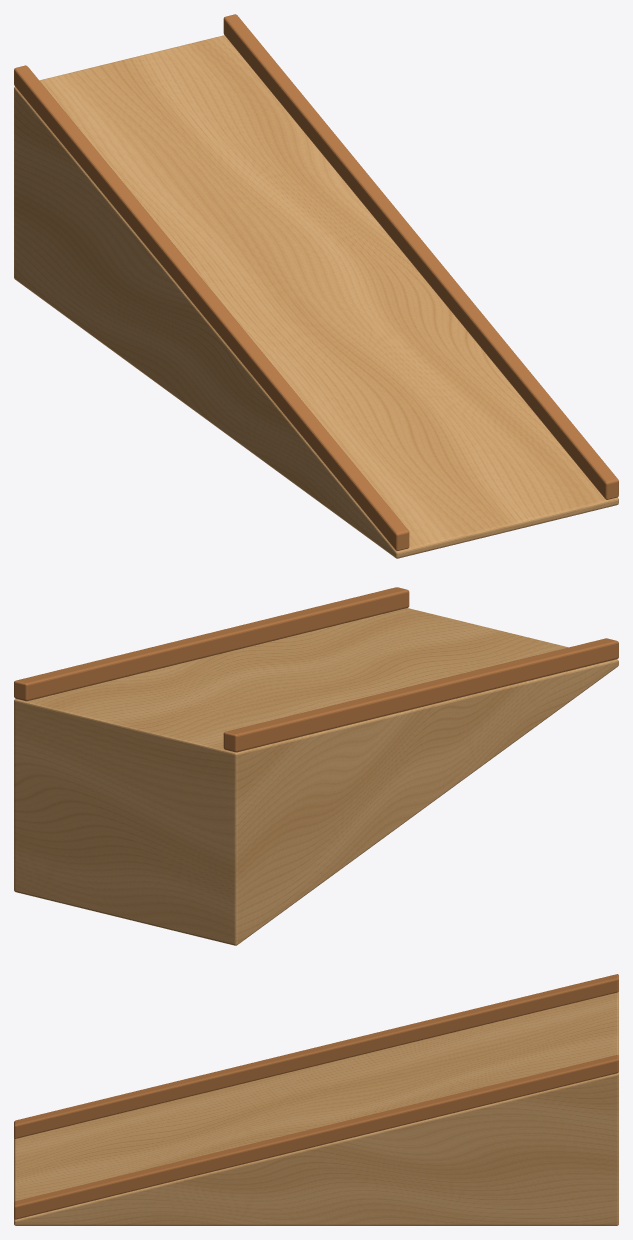
File: ramp.glb
3 views of the same model, one above another, from view 1: azimuth 30°, elevation 25°; view 2: azimuth 150°, elevation 25°; view 3: azimuth 270°, elevation 25° (orthographic). The views are drawn at different scales.
Visible parts, largest first — view 1: ramp; view 2: ramp; view 3: ramp.
Boxes of the visible parts, x1=… form: ramp: x1=14, y1=14, x2=618, y2=558; ramp: x1=14, y1=587, x2=618, y2=945; ramp: x1=14, y1=974, x2=618, y2=1225.
Bounding box in the file's own units: 0.032 × 0.0289 × 0.095.
2 materials, 1 textured.
